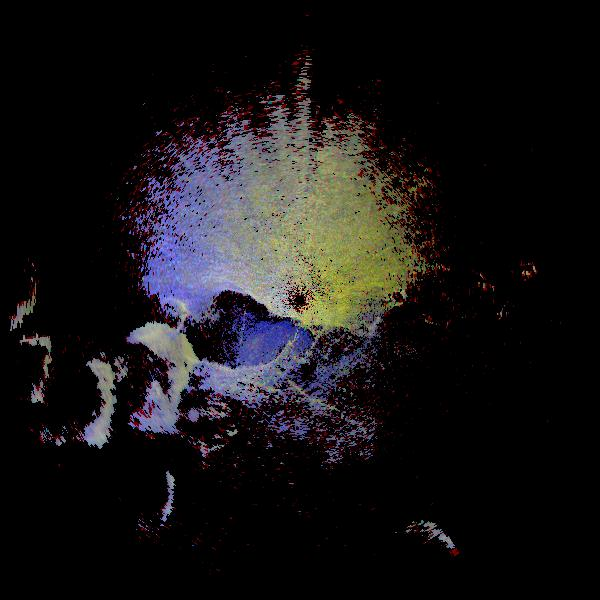roost: (66, 285, 246, 465)
